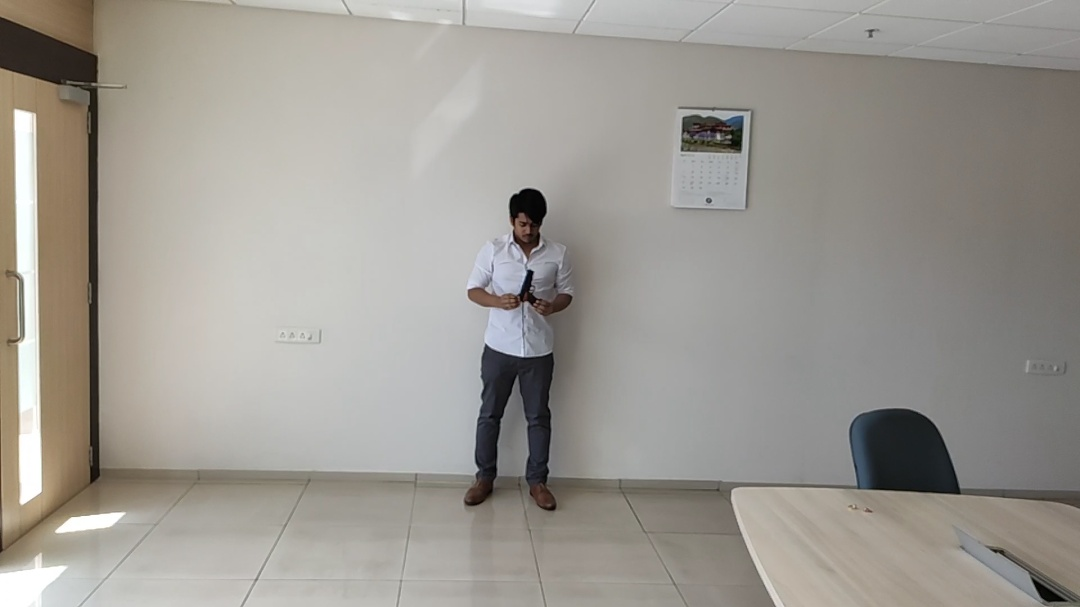gun: (518, 269, 541, 307)
